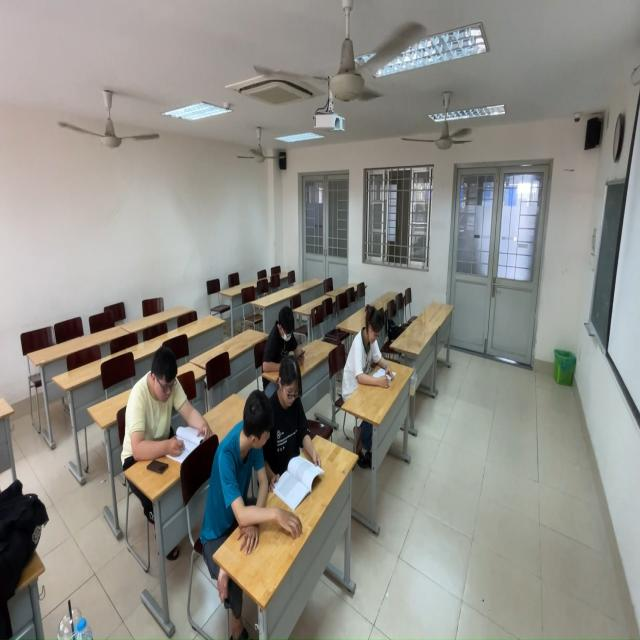read: (202, 393, 281, 557), (121, 347, 217, 467), (268, 358, 324, 493), (344, 309, 404, 394), (263, 306, 308, 372)
